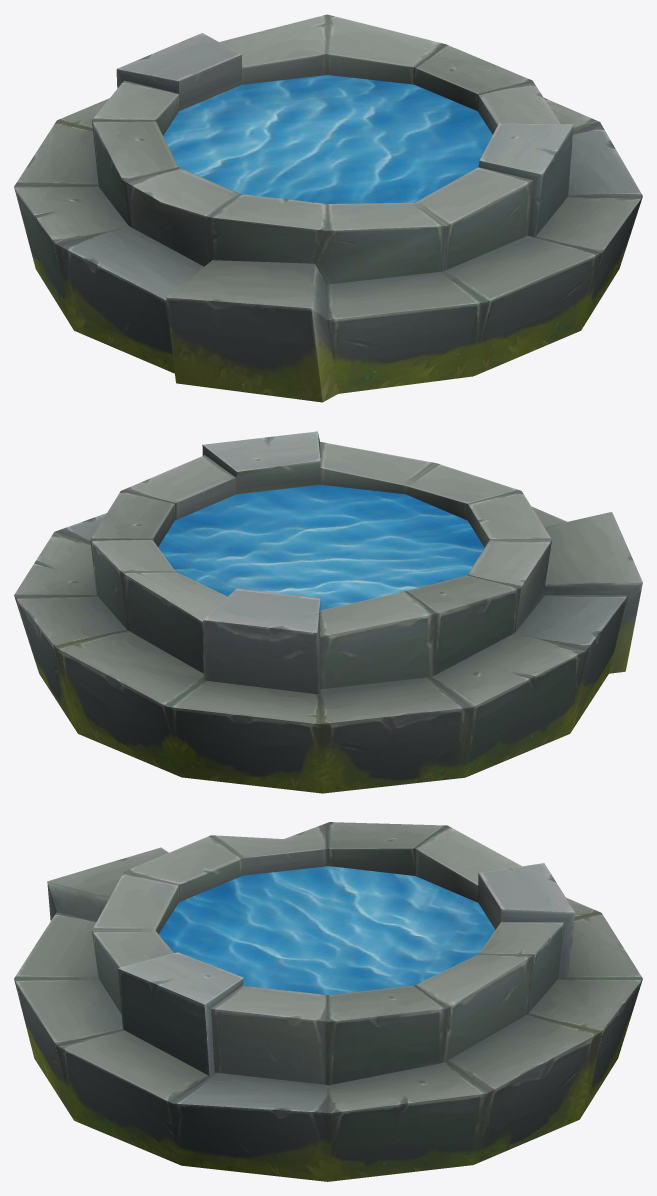
Rendered from ZhuCheng_ShuiJing_01.fbx.
The picture shows the model from 3 angles, top to bottom: view 1: azimuth 30°, elevation 25°; view 2: azimuth 150°, elevation 25°; view 3: azimuth 270°, elevation 25°; orthographic projection. The views are drawn at different scales.
Parts seen in each view (by area): view 1: ZhuCheng_ShuiJing_01; view 2: ZhuCheng_ShuiJing_01; view 3: ZhuCheng_ShuiJing_01.
Part boxes in pixels (x1,y1,x2,y2): ZhuCheng_ShuiJing_01: (14, 14, 642, 402); ZhuCheng_ShuiJing_01: (14, 431, 642, 793); ZhuCheng_ShuiJing_01: (14, 822, 642, 1181).
Bounding box in the file's own units: 2.71 × 0.7306 × 2.71.
